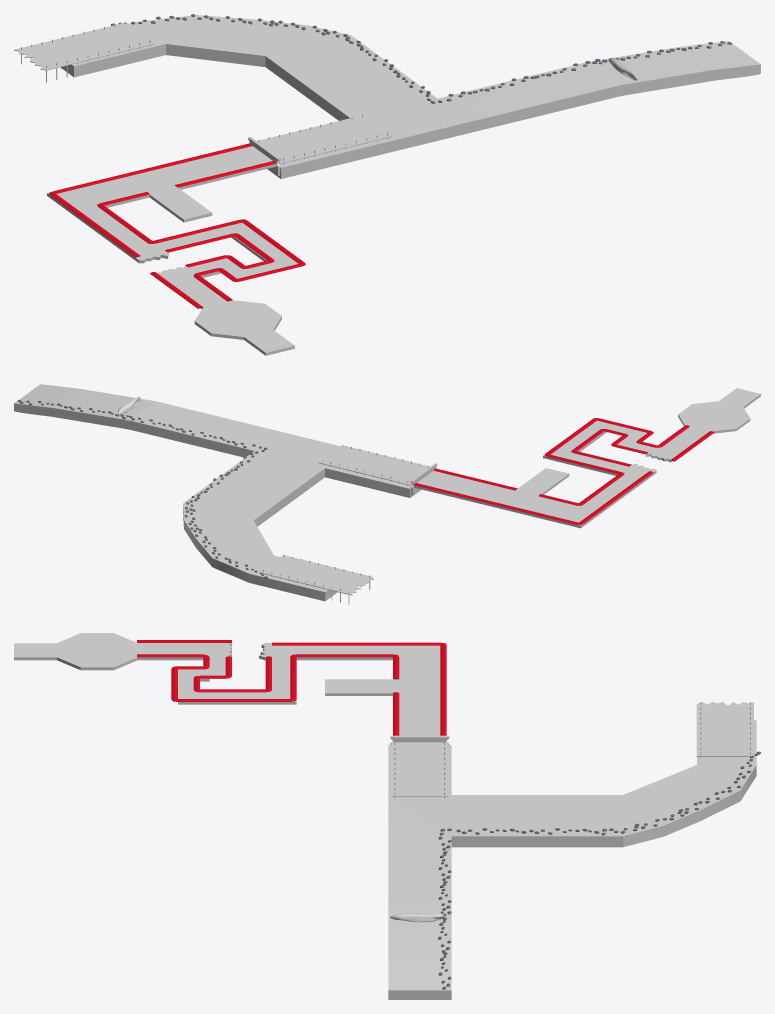
Rendered from Level_1_Layout.v2.fbx.
3 views of the same model, one above another, from view 1: azimuth 30°, elevation 25°; view 2: azimuth 150°, elevation 25°; view 3: azimuth 270°, elevation 25° (orthographic). The views are drawn at different scales.
Visible parts, largest first — view 1: Playa, Playa.001, Street_1.001, Plane.017, Plane.002, Muelle_piso.001, Muelle_piso; view 2: Playa.001, Playa, Street_1.001, Plane.017, Muelle_piso.001, Plane.002, Muelle_piso; view 3: Playa.001, Playa, Street_1.001, Plane.017, Plane.002, Muelle_piso, Muelle_piso.001.
Part boxes in pixels (<box>): Playa: <box>267,41,760,178</box>; Playa.001: <box>60,15,437,120</box>; Street_1.001: <box>47,146,298,308</box>; Plane.017: <box>49,143,305,308</box>; Plane.002: <box>194,300,294,355</box>; Muelle_piso.001: <box>14,22,154,70</box>; Muelle_piso: <box>257,115,392,164</box>; Playa.001: <box>183,451,337,601</box>; Playa: <box>14,384,421,497</box>; Street_1.001: <box>414,420,708,528</box>; Plane.017: <box>414,418,714,525</box>; Muelle_piso.001: <box>259,555,373,595</box>; Plane.002: <box>678,388,760,433</box>; Muelle_piso: <box>318,445,429,485</box>; Playa.001: <box>451,720,756,847</box>; Playa: <box>388,745,451,999</box>; Street_1.001: <box>137,643,446,735</box>; Plane.017: <box>137,640,446,735</box>; Plane.002: <box>14,633,137,670</box>; Muelle_piso: <box>391,742,448,796</box>; Muelle_piso.001: <box>696,702,753,756</box>.
Size of the model in its own units: 49939 by 2129 by 46268.
